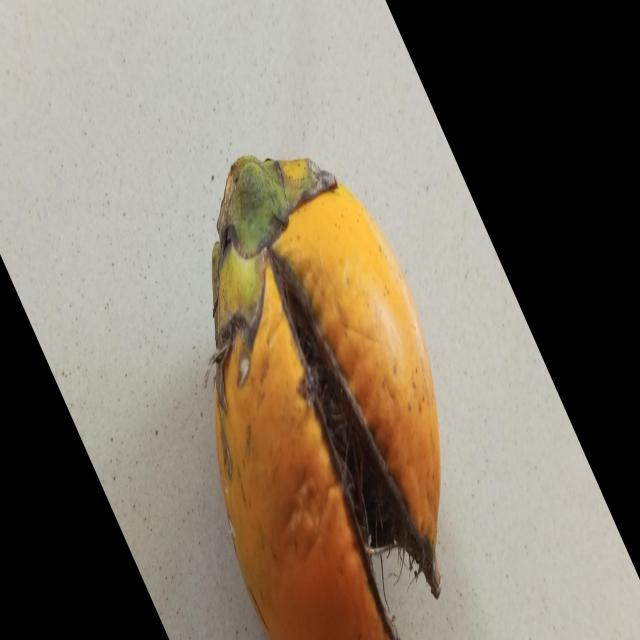damaged: (211, 157, 445, 640)
